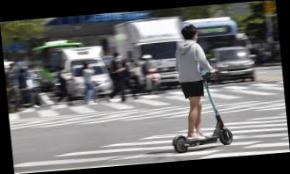nonhelmet: (159, 21, 236, 154)
